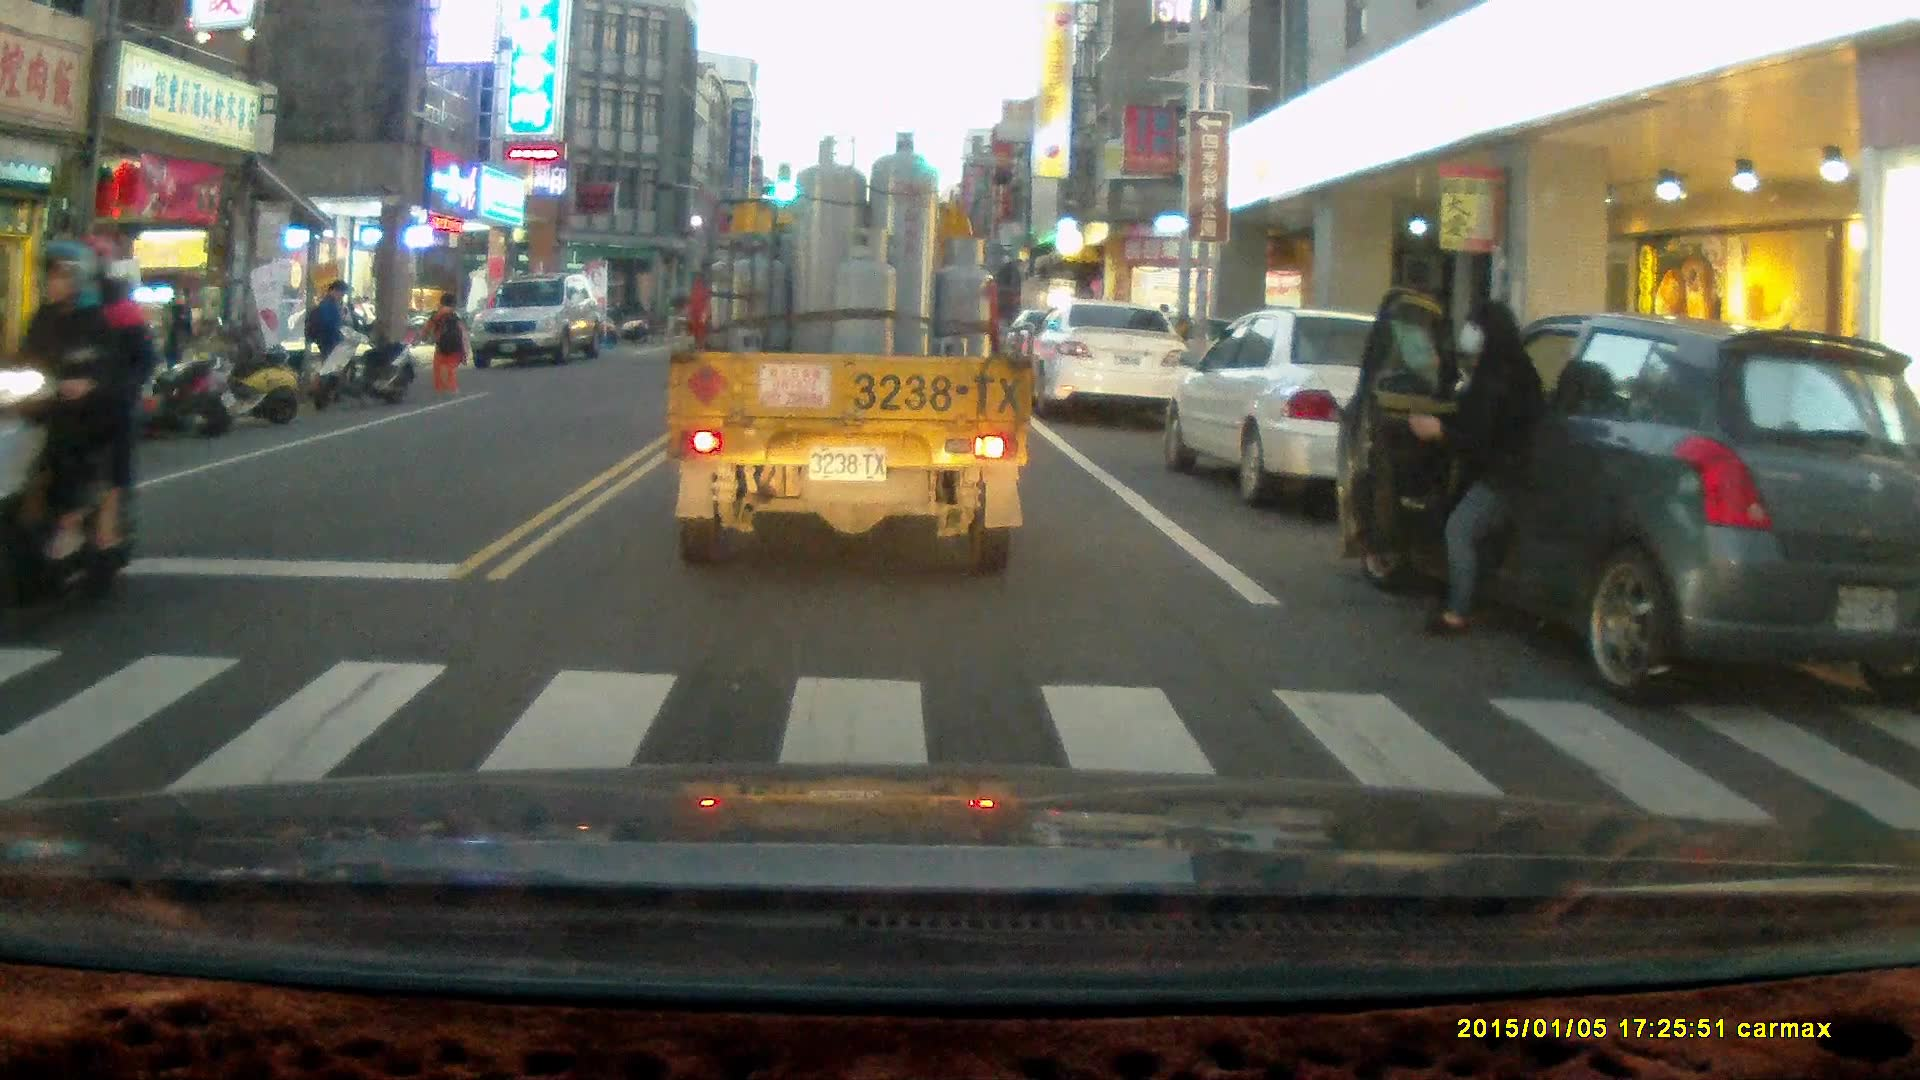pedestrian: (1404, 297, 1551, 640), (412, 289, 468, 391), (304, 277, 348, 397), (155, 283, 193, 399)
rider: (0, 234, 149, 634)
vehicle: (1347, 316, 1920, 707), (663, 128, 1037, 576), (1177, 313, 1510, 512), (1024, 299, 1196, 422), (470, 280, 609, 367)
